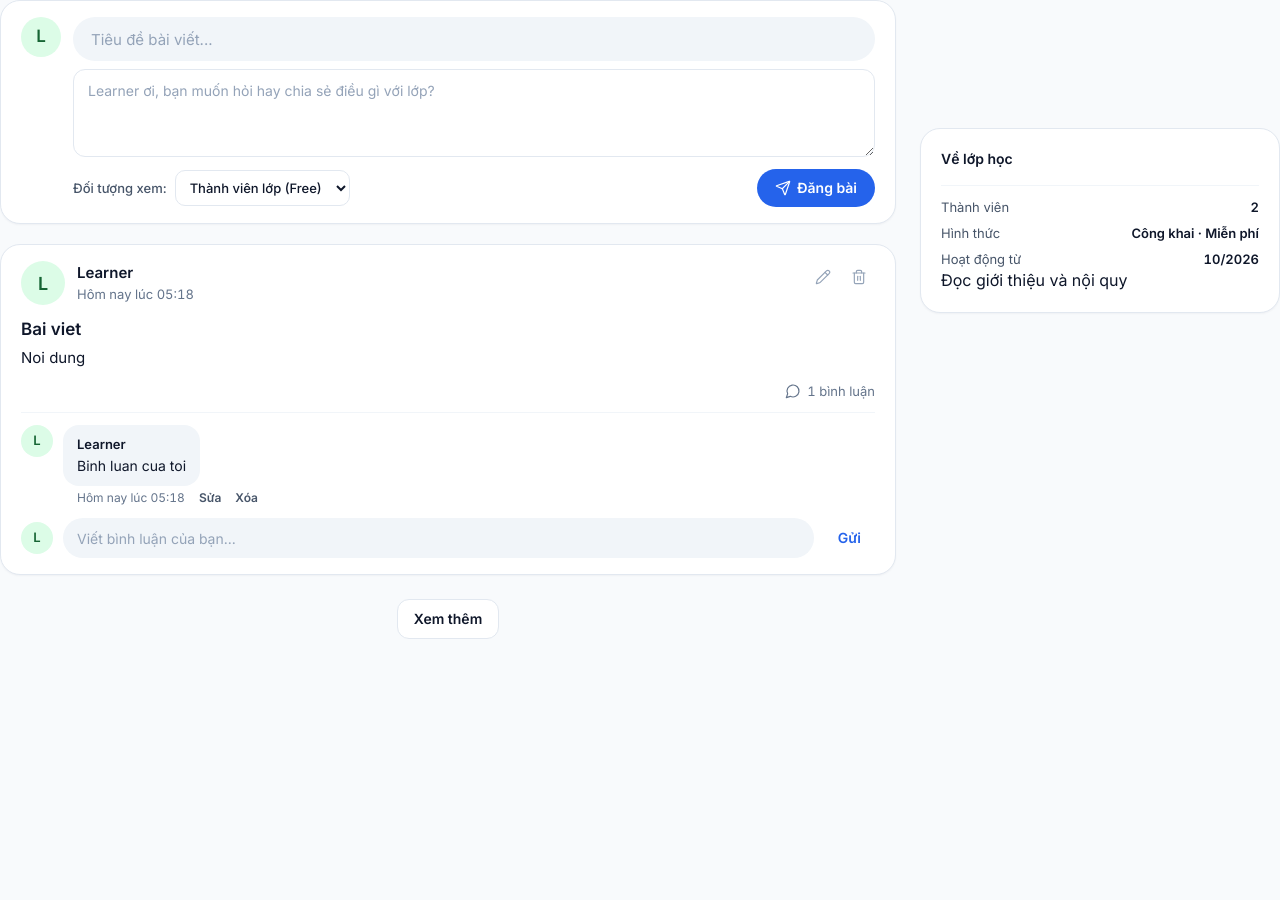
Scenario: FeedTab › R5-01: shows "Xem thêm" when hasNext is true and loads the next page via cursor on click
Step 1. Click the button "Xem thêm" → (448, 619), box [397,599,499,639]
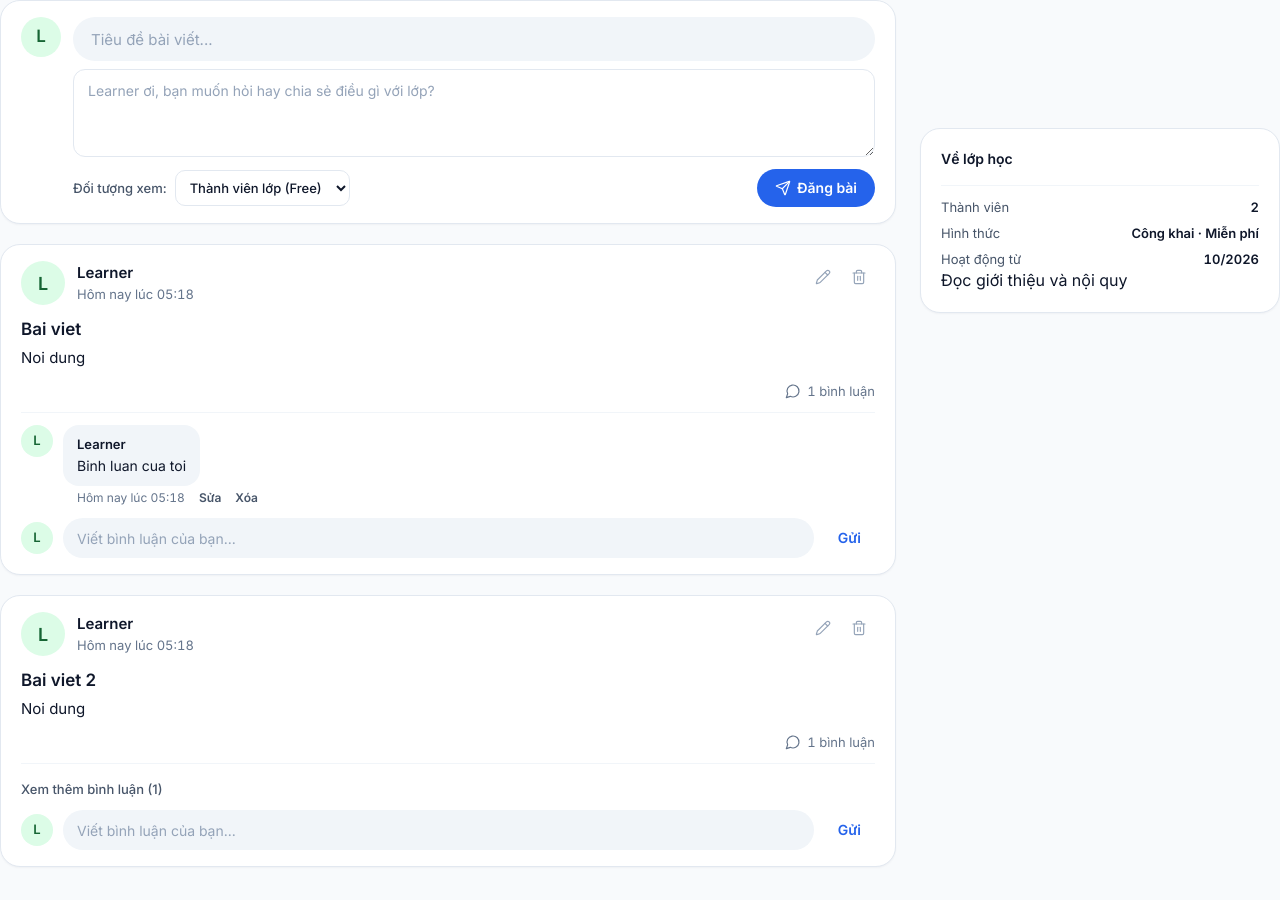
Expected: the heading "Bai viet" is shown, [21,319,81,339]
Expected: the heading "Bai viet 2" is shown, [21,670,96,690]
